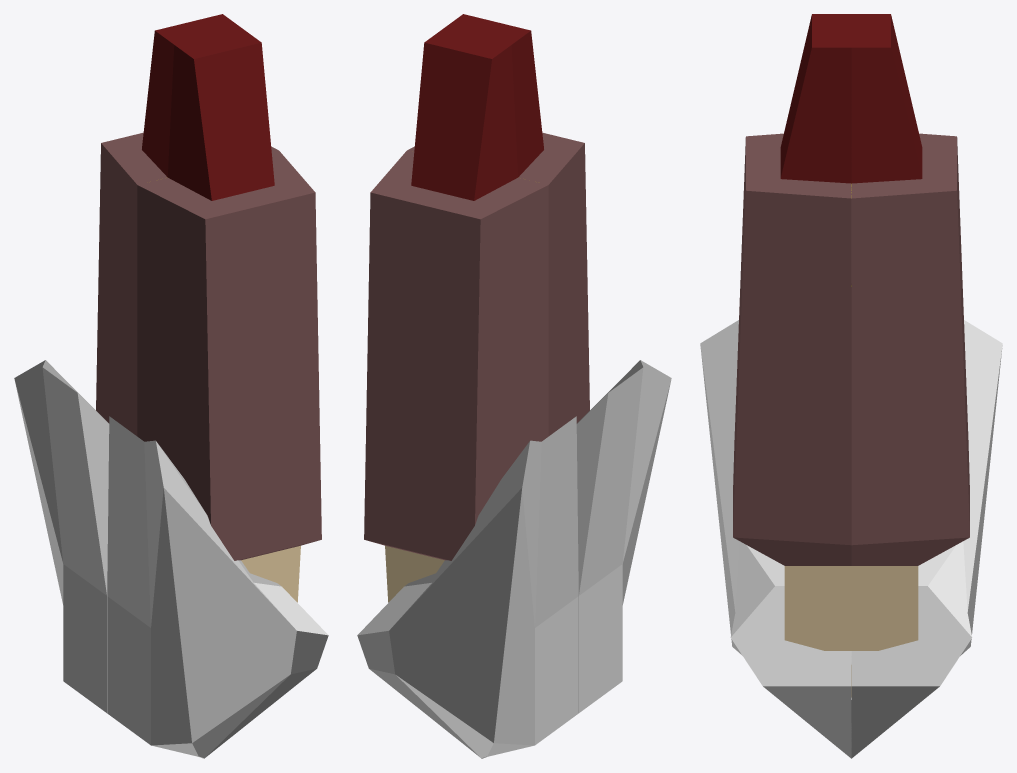
The model's file is arch.fbx.
3 views of the same model, side by side, from view 1: azimuth 30°, elevation 25°; view 2: azimuth 150°, elevation 25°; view 3: azimuth 270°, elevation 25° (orthographic).
Parts seen in each view (by area): view 1: Cube.001, Cube; view 2: Cube.001, Cube; view 3: Cube.001, Cube.
Part boxes in pixels (<box>): Cube.001: <box>96,14,321,602</box>; Cube: <box>14,360,328,758</box>; Cube.001: <box>364,14,589,602</box>; Cube: <box>357,360,671,758</box>; Cube.001: <box>733,14,969,697</box>; Cube: <box>700,320,1002,758</box>.
Bounding box in the file's own units: 221 × 800 × 300.
